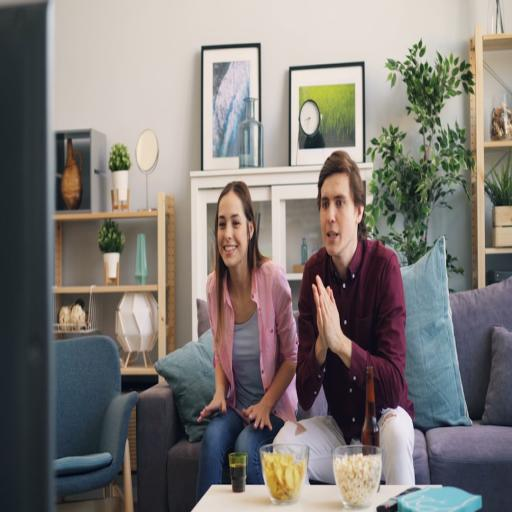face: (316, 172, 363, 255), (217, 190, 254, 270)
